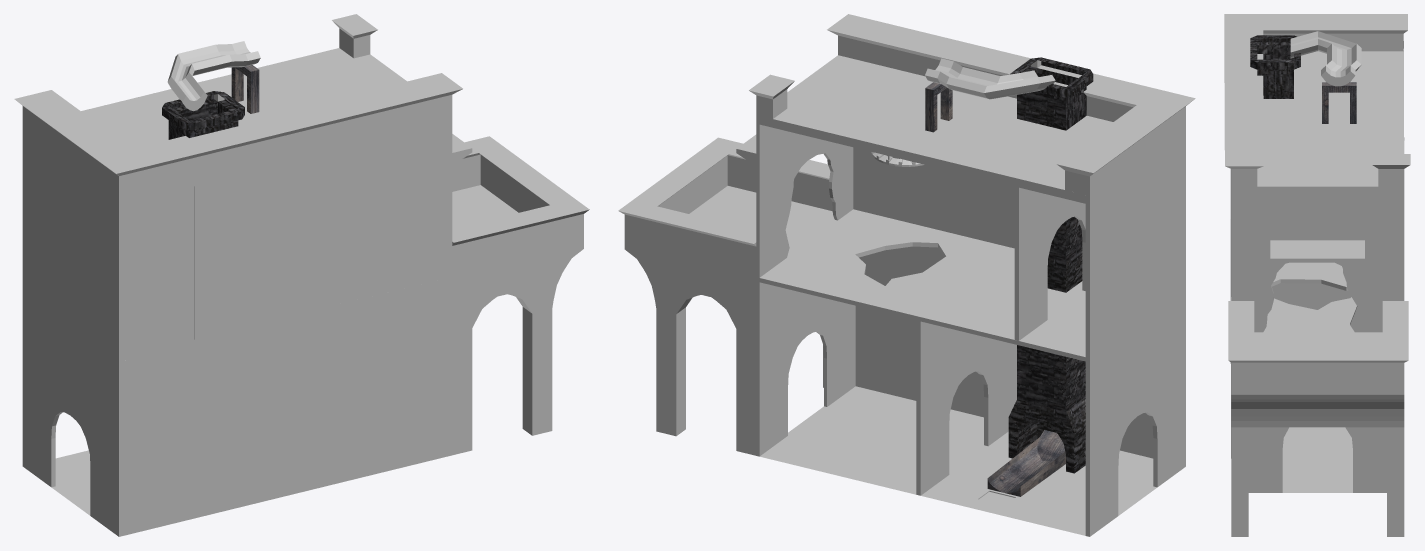
Rendered from level_2_puzzle_building.fbx.
3 views of the same model, side by side, from view 1: azimuth 30°, elevation 25°; view 2: azimuth 150°, elevation 25°; view 3: azimuth 270°, elevation 25° (orthographic). The views are drawn at different scales.
Parts seen in each view (by area): view 1: Cube, RampStraight2, Ramp Support; view 2: Cube, RampStraight2, Ramp Support; view 3: Cube, RampStraight2, Ramp Support.
Boxes of the visible parts, x1=… form: Cube: x1=14, y1=14, x2=589, y2=536; RampStraight2: x1=167, y1=41, x2=260, y2=110; Ramp Support: x1=231, y1=65, x2=259, y2=113; Cube: x1=618, y1=14, x2=1195, y2=536; RampStraight2: x1=925, y1=58, x2=1055, y2=99; Ramp Support: x1=925, y1=82, x2=952, y2=132; Cube: x1=1224, y1=14, x2=1410, y2=536; RampStraight2: x1=1290, y1=31, x2=1361, y2=86; Ramp Support: x1=1322, y1=82, x2=1356, y2=123.
Size of the model in its own units: 571 by 467 by 216.
